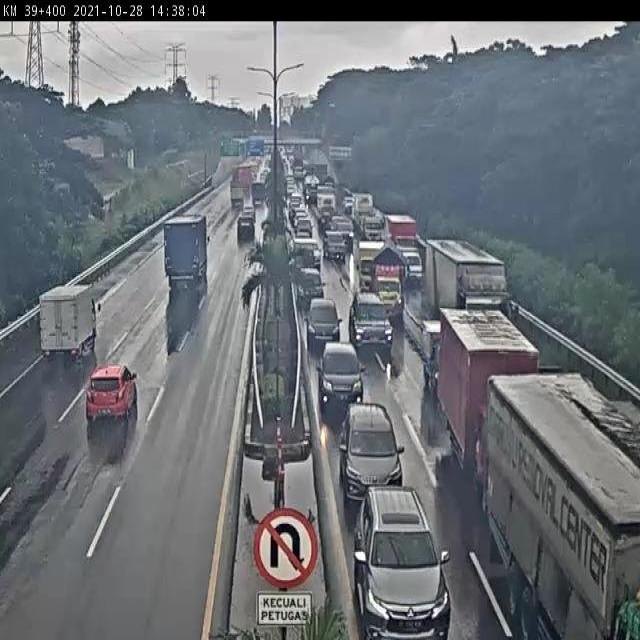big truck: (484, 381, 640, 640), (440, 304, 551, 477), (430, 236, 527, 355), (34, 276, 118, 363), (162, 207, 214, 309)
car: (355, 484, 450, 640), (341, 395, 412, 517), (80, 357, 161, 436), (319, 339, 376, 429), (349, 287, 406, 369), (304, 294, 352, 350), (294, 262, 332, 310), (235, 213, 258, 247), (324, 231, 345, 264), (240, 203, 264, 224)
small truck: (419, 318, 479, 398), (372, 248, 417, 325)
